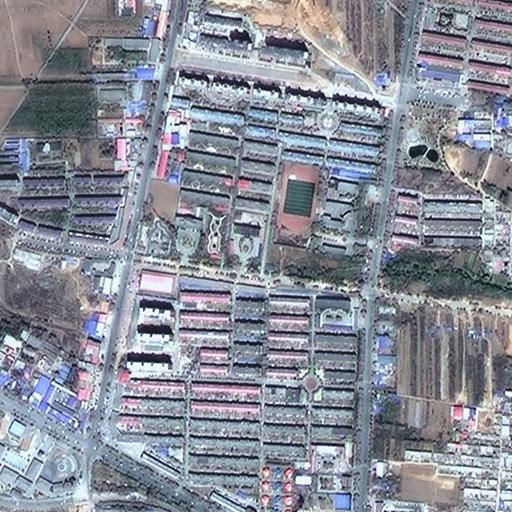school: (271, 156, 380, 245)
